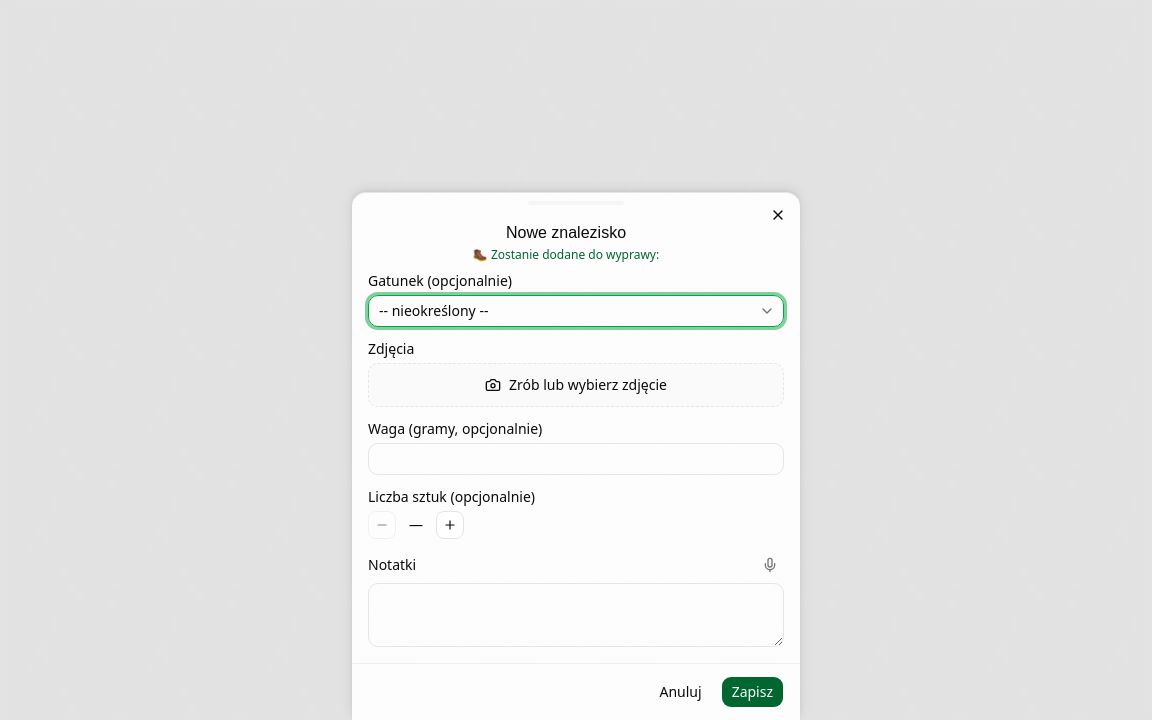
Test: AddFindingForm › pokazuje komunikat o braku miejsca i NIE zamyka formularza przy QuotaExceededError
The image size is (1152, 720).
Step 1. Click the button "Zapisz" → (752, 692), box [721,676,784,708]
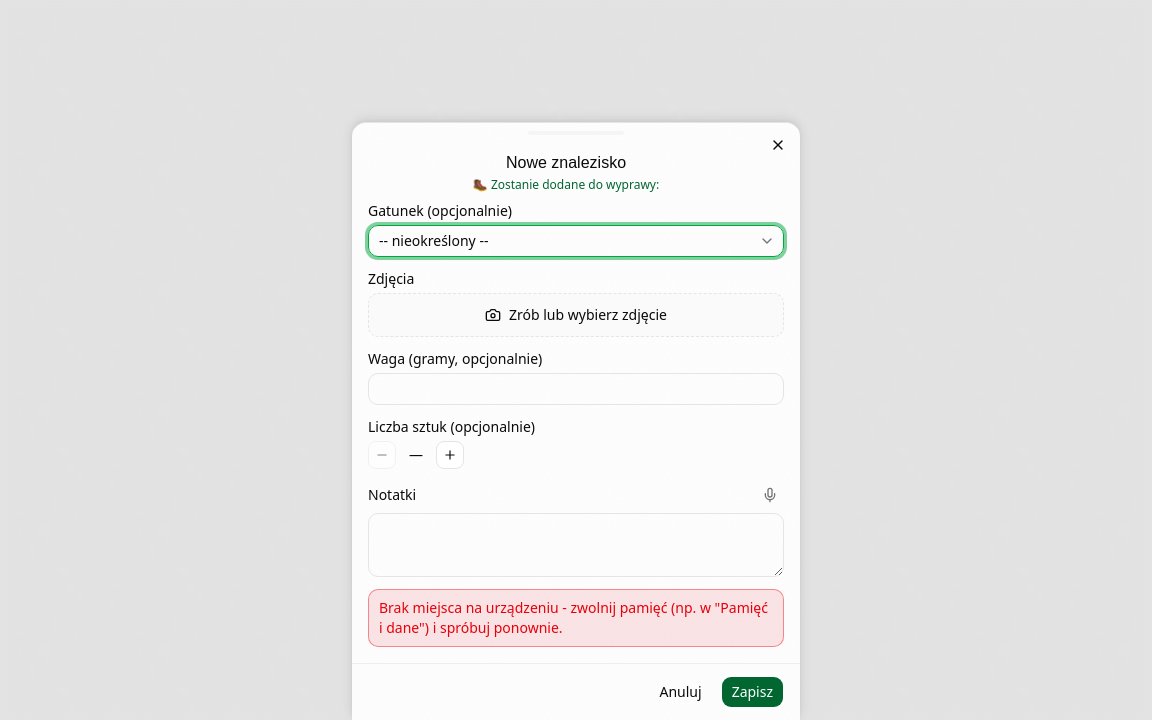
expect the text "Brak miejsca na urządzeniu" is shown: met, box [379,598,768,637]
